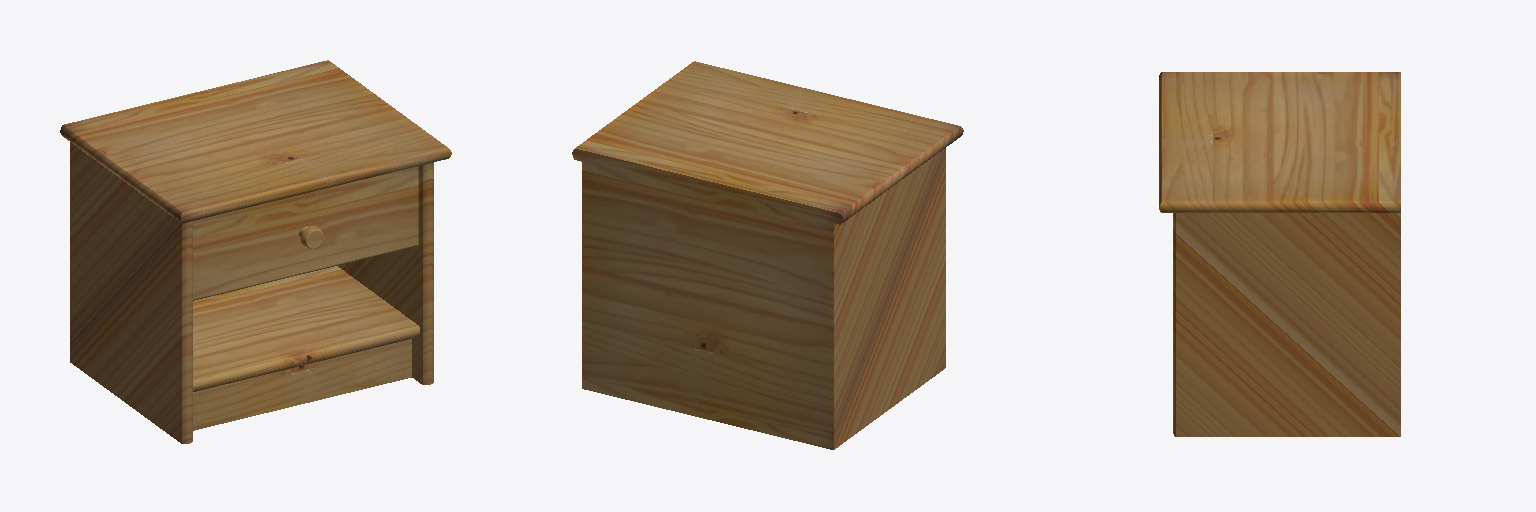
3 renders of one model, left to right at view 1: azimuth 30°, elevation 25°; view 2: azimuth 150°, elevation 25°; view 3: azimuth 270°, elevation 25°, orthographic.
Parts seen in each view (by area): view 1: default_1_1; view 2: default_1_1; view 3: default_1_1.
Boxes of the visible parts, box(x1,y1,x2,y2) form: default_1_1: box(60, 60, 451, 443); default_1_1: box(572, 61, 963, 449); default_1_1: box(1159, 72, 1400, 436).
Bounding box in the file's own units: 44 × 37.1 × 34.
Materials: 1 (1 with a texture image).